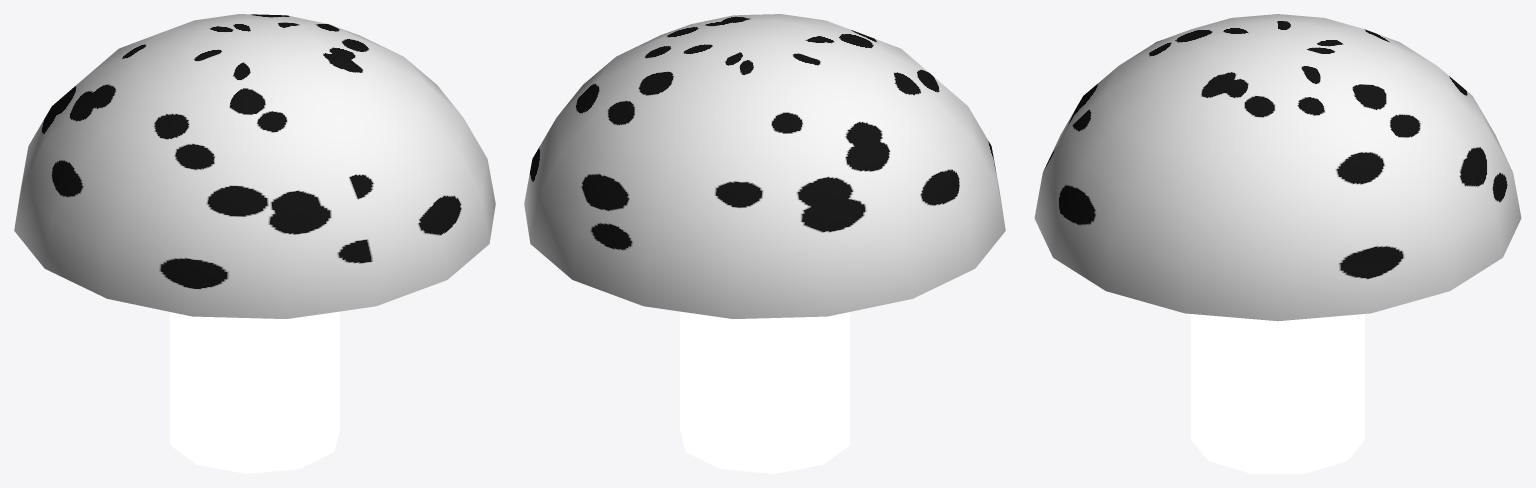
The model's file is spotted_mushroom.glb.
3 renders of one model, left to right at view 1: azimuth 30°, elevation 25°; view 2: azimuth 150°, elevation 25°; view 3: azimuth 270°, elevation 25°, orthographic.
Parts seen in each view (by area): view 1: spotted_mushroom; view 2: spotted_mushroom; view 3: spotted_mushroom.
Boxes of the visible parts, bbox=[...] form: spotted_mushroom: bbox=[14, 14, 495, 473]; spotted_mushroom: bbox=[524, 14, 1005, 473]; spotted_mushroom: bbox=[1034, 14, 1521, 473].
Bounding box in the file's own units: 0.56 × 0.504 × 0.56.
2 materials, 1 textured.
